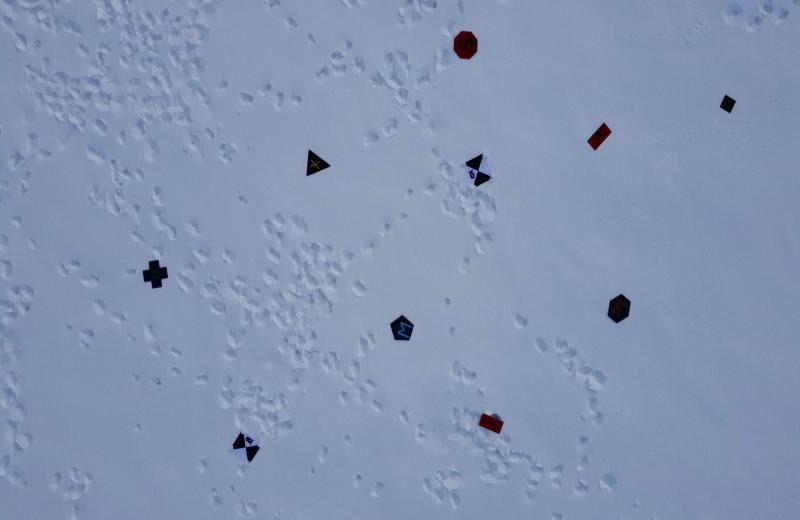Cross: (140, 257, 172, 291)
Hexagon: (605, 293, 635, 330)
Octagon: (449, 28, 478, 65)
Pentagon: (390, 314, 420, 348)
Rectangle: (475, 408, 508, 438), (584, 120, 614, 153)
Square: (716, 89, 740, 113)
Triangle: (299, 146, 332, 179)
